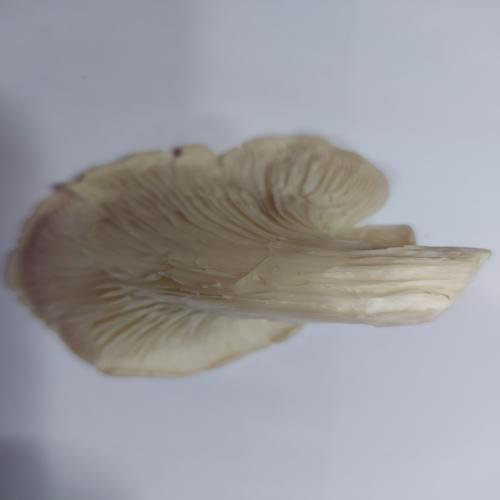Oyster Mushroom: (5, 134, 491, 379)
